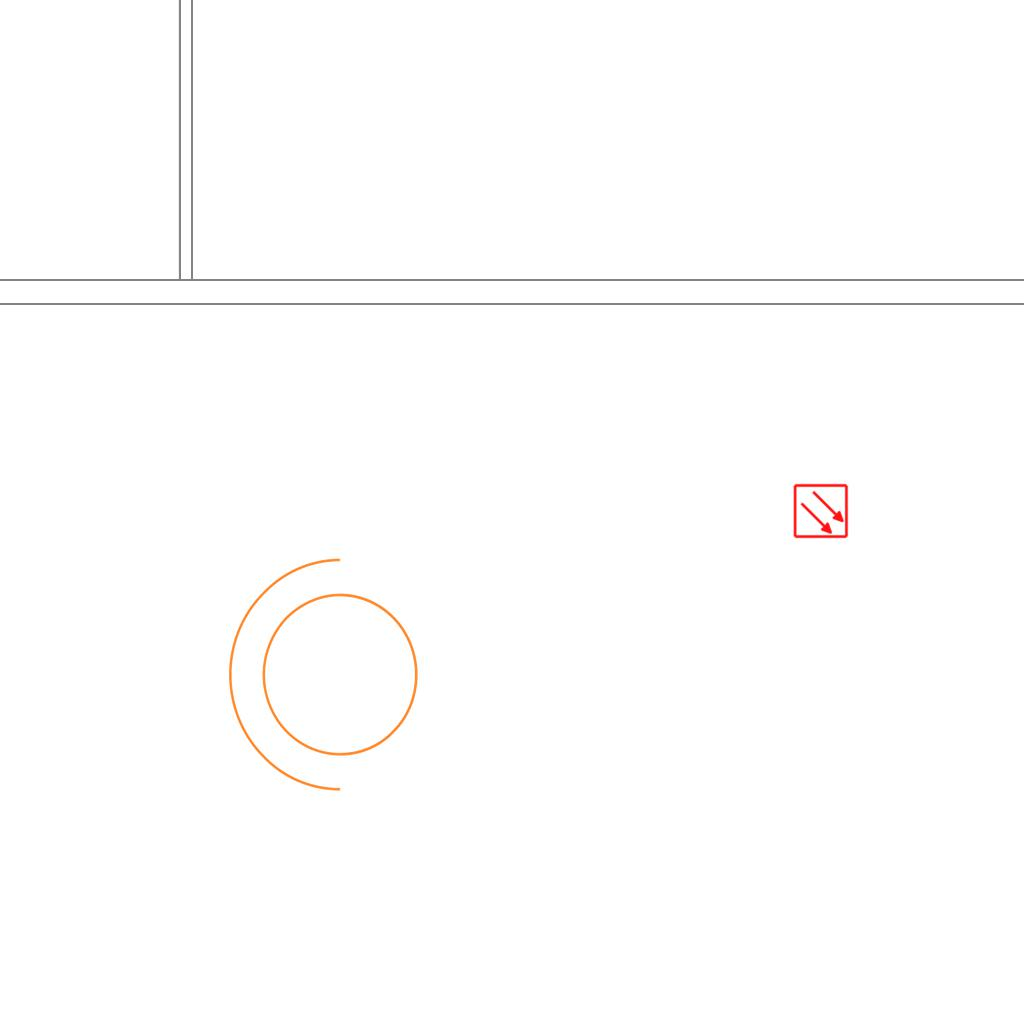RMO_Rauchmelder_optischer: (793, 483, 849, 539)
Scheinwerfer_fuer_Alarmbeleuchtung: (218, 549, 443, 813)
